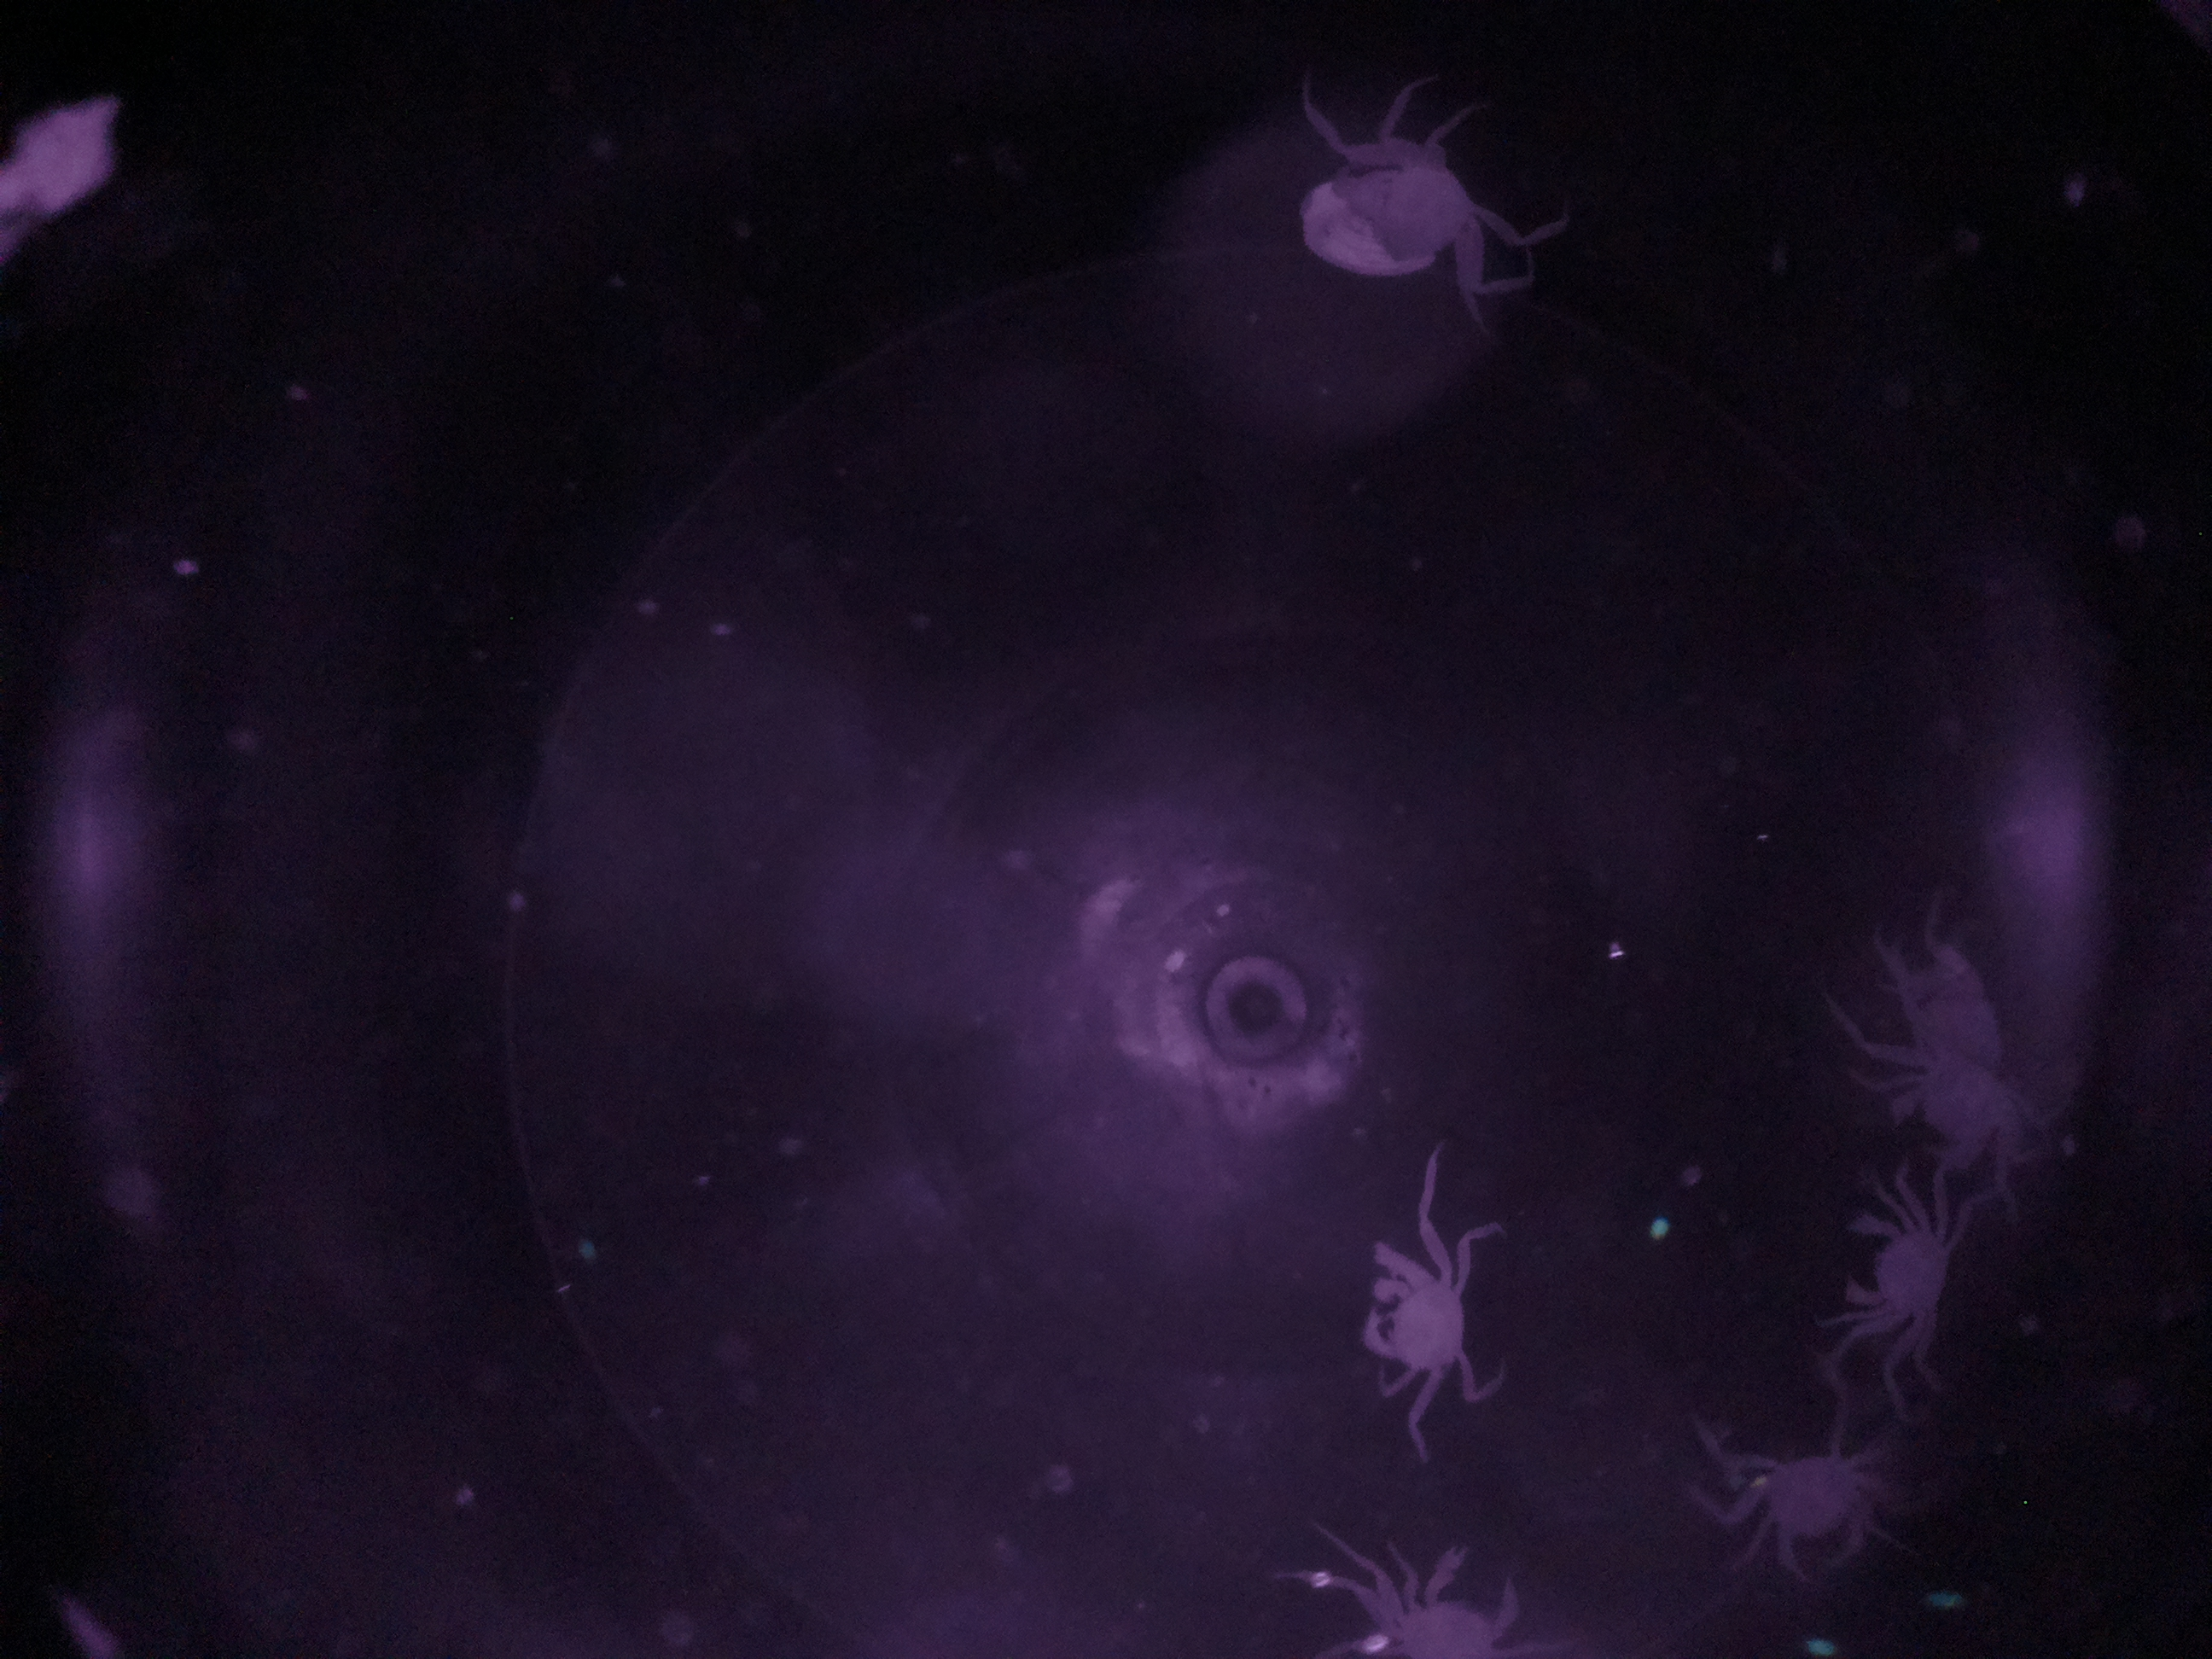Crab: (1710, 1420, 1892, 1601), (1832, 1166, 1984, 1356), (1348, 1218, 1480, 1415)
